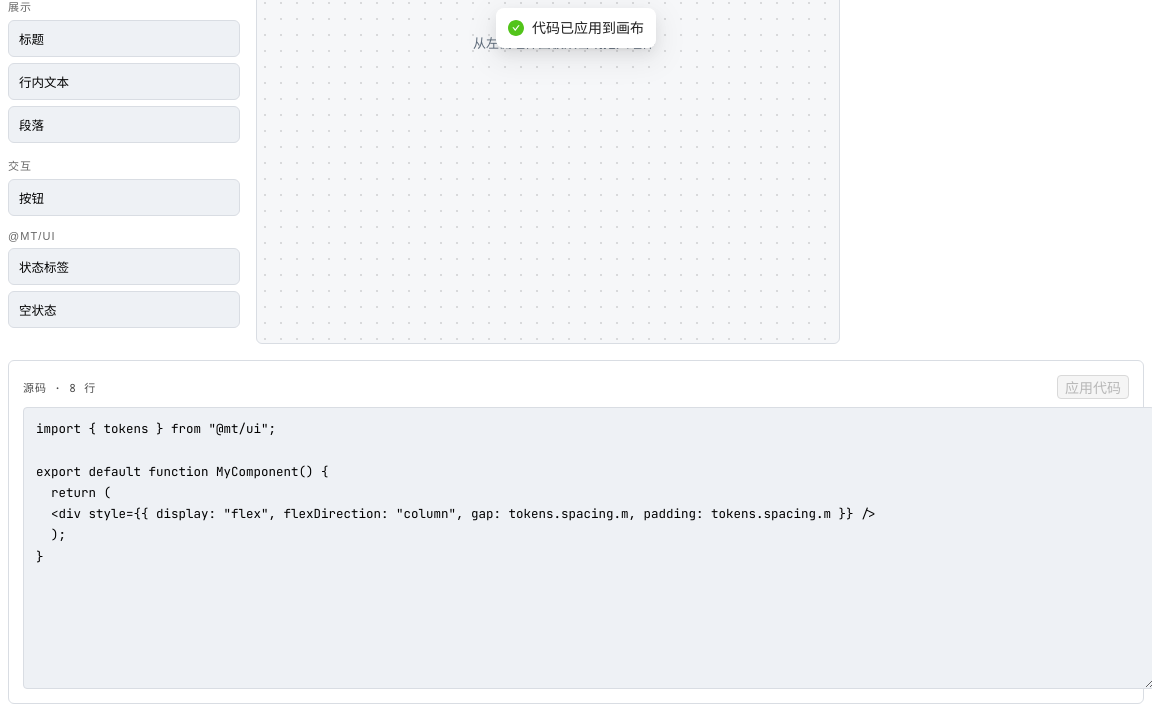
Scenario: StudioPage 画布工坊 › 应用代码失败：提示原因且保留编辑内容
(page scrolled)
Replace the text in the text box with test id "studio-code" with "bad code": (588, 548) top-left (23, 407), bottom-right (1152, 689)
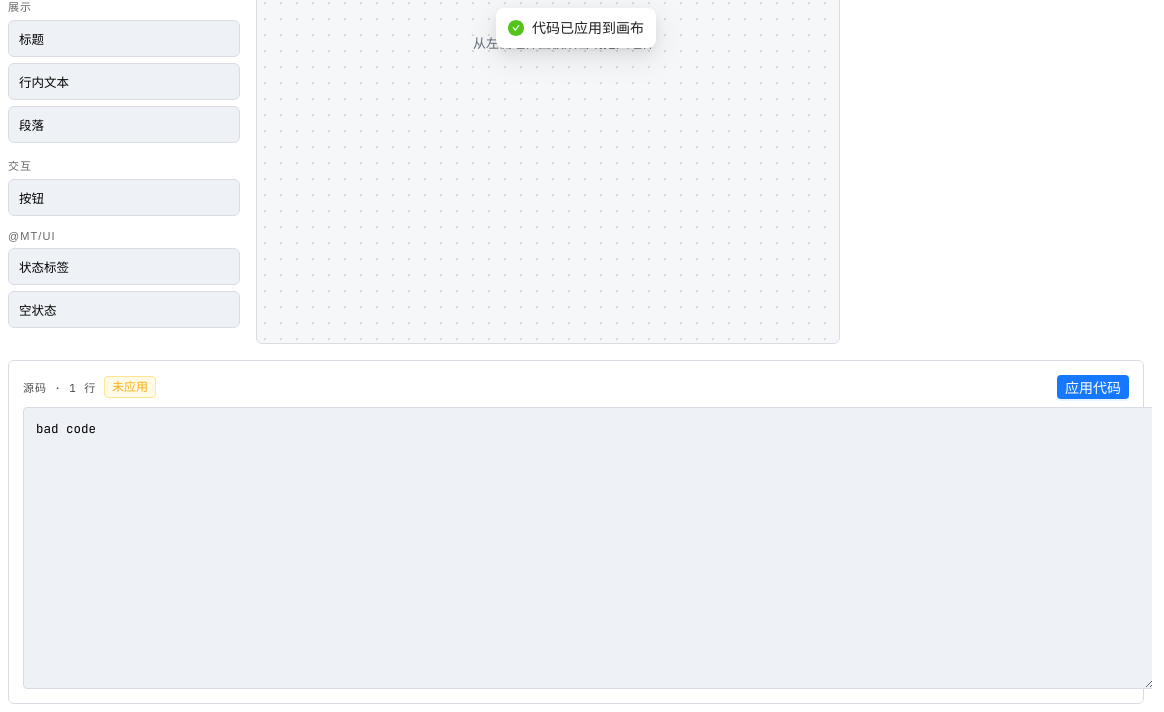
Click the button "应用代码": (1093, 387) top-left (1057, 375), bottom-right (1129, 399)
(page scrolled)
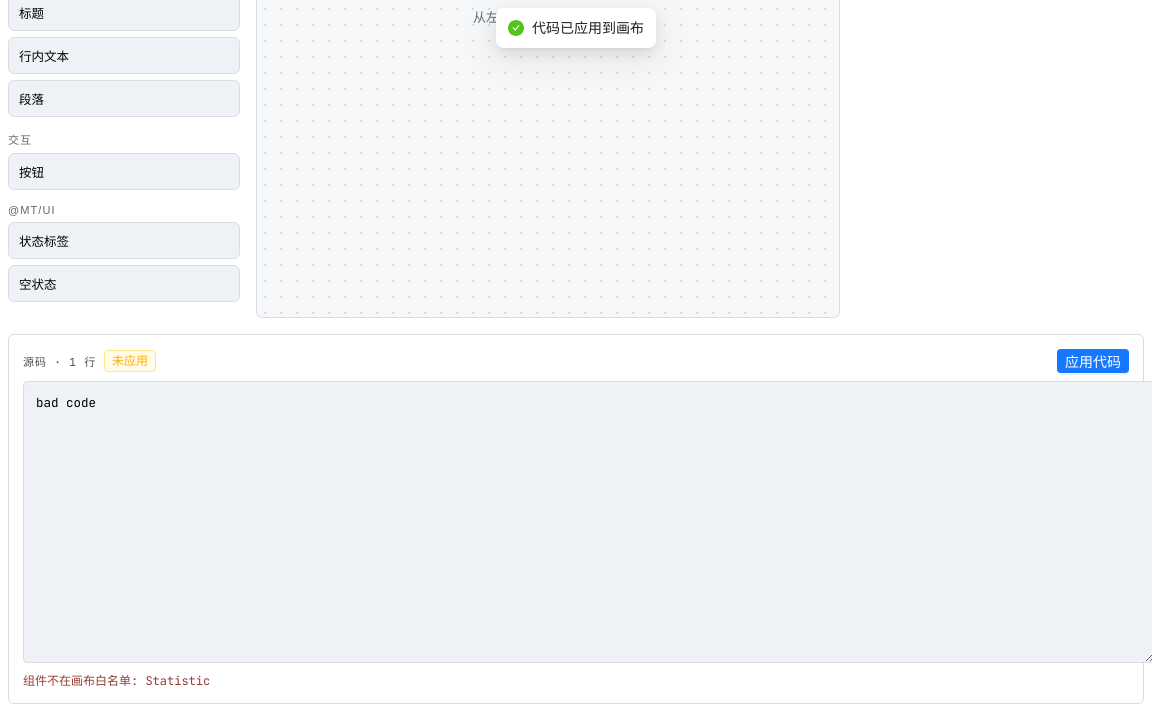
Expected: the text "组件不在画布白名单: Statistic" is shown, top-left (23, 673), bottom-right (210, 689)
